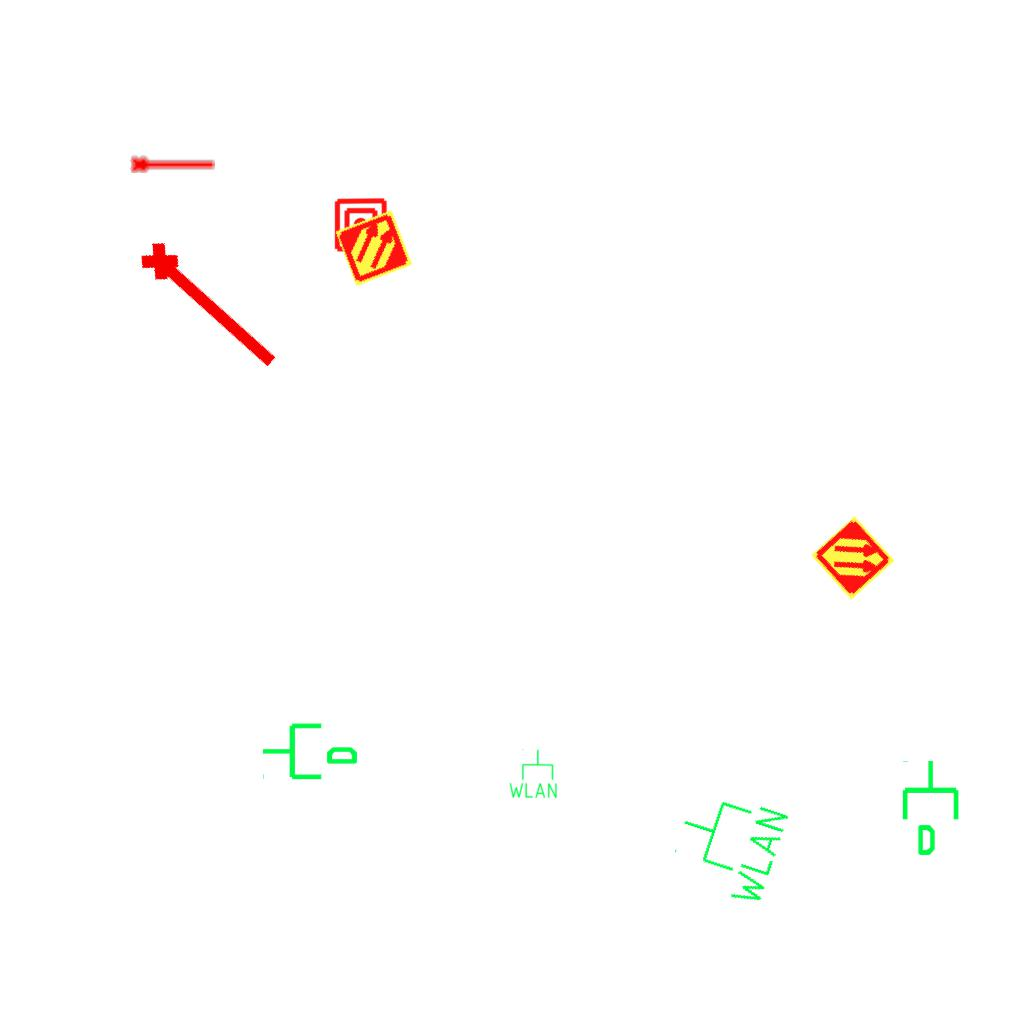ASR_Ansaugoeffnung: (131, 229, 293, 381), (129, 152, 217, 175)
ASR_Ansaugrauchmelder: (809, 514, 897, 602), (333, 207, 415, 289)
Datenanschluss_einfach: (260, 715, 360, 784), (898, 758, 967, 858)
NAM-Nichtautomatischer_Melder: (332, 196, 390, 254)
WLAN: (662, 780, 794, 913), (507, 748, 559, 800)
